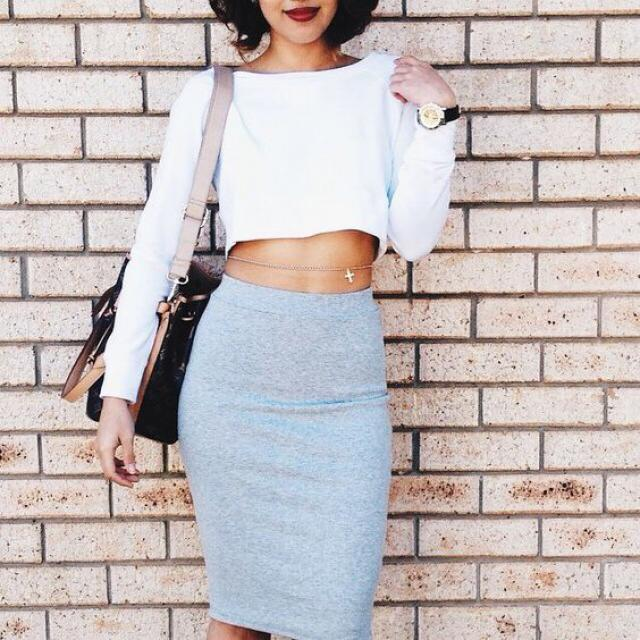clothes: (138, 51, 454, 640)
